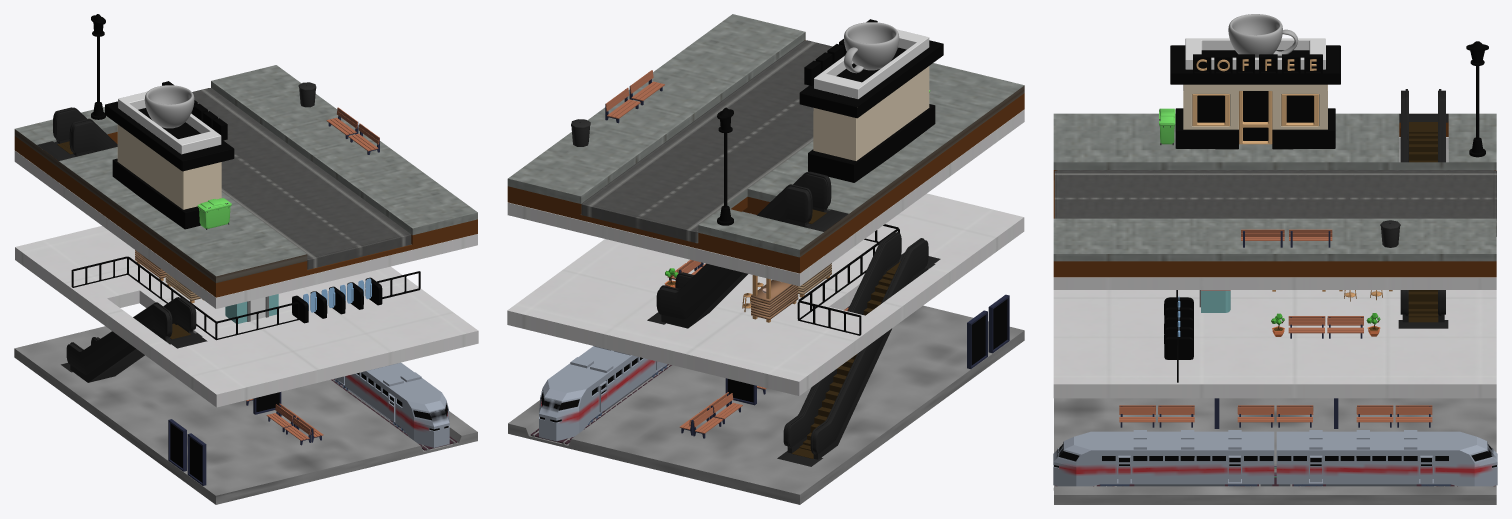
File: DioramaFinal_forWebGPU_Baking_Fixed_Emission.obj
3 renders of one model, left to right at view 1: azimuth 30°, elevation 25°; view 2: azimuth 150°, elevation 25°; view 3: azimuth 270°, elevation 25°, orthographic. The views are drawn at different scales.
Visible parts, largest first — view 1: Diorama; view 2: Diorama; view 3: Diorama.
Boxes of the visible parts, <box> form: Diorama: <box>14,14,478,504</box>; Diorama: <box>507,14,1024,504</box>; Diorama: <box>1053,14,1497,504</box>.
Size of the model in its own units: 60.13 by 72.63 by 80.28.
